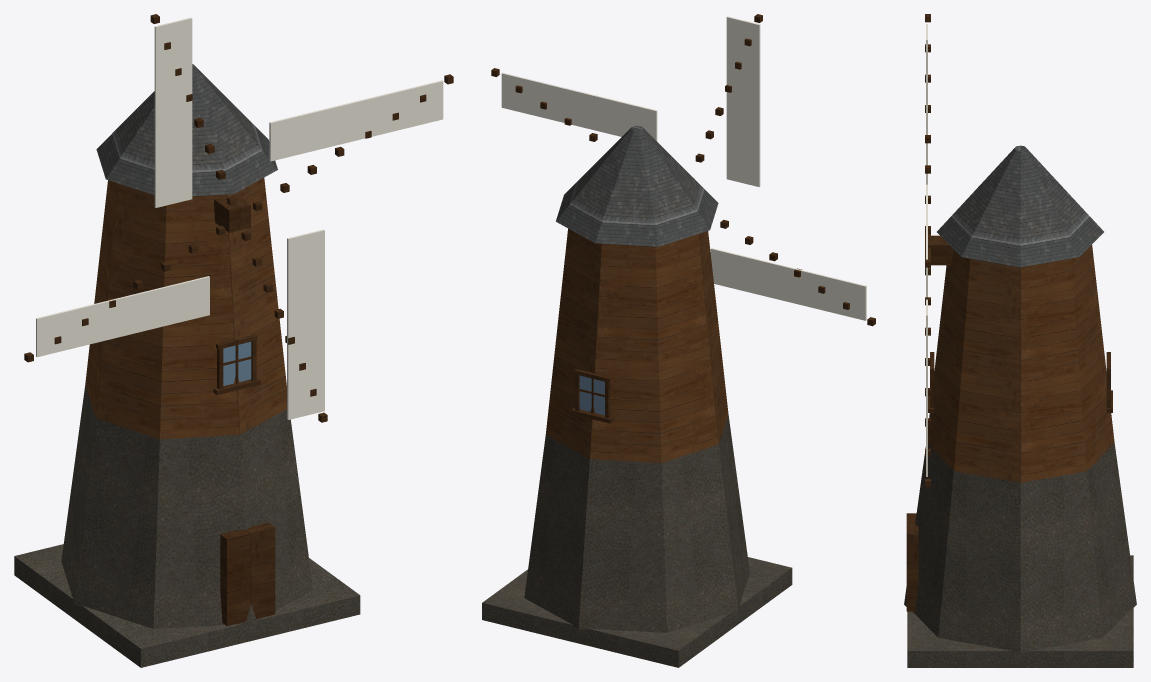
Rendered from windmill.gltf.
The picture shows the model from 3 angles, left to right: view 1: azimuth 30°, elevation 25°; view 2: azimuth 150°, elevation 25°; view 3: azimuth 270°, elevation 25°; orthographic projection. The views are drawn at different scales.
Visible parts, largest first — view 1: GreenValleyWindmill; view 2: GreenValleyWindmill; view 3: GreenValleyWindmill.
Part boxes in pixels (bbox=[...]): GreenValleyWindmill: bbox=[14, 14, 453, 667]; GreenValleyWindmill: bbox=[482, 14, 875, 667]; GreenValleyWindmill: bbox=[904, 14, 1136, 667].
Bounding box in the file's own units: 12.81 × 18.31 × 6.8.
Materials: 6 (4 with a texture image).
